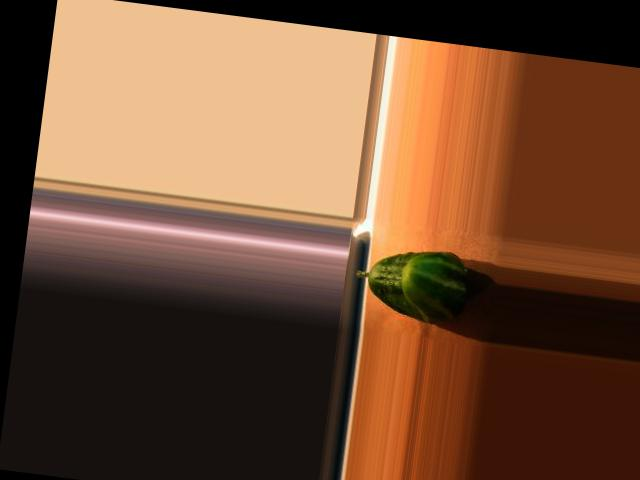cucumber: (350, 240, 471, 326)
